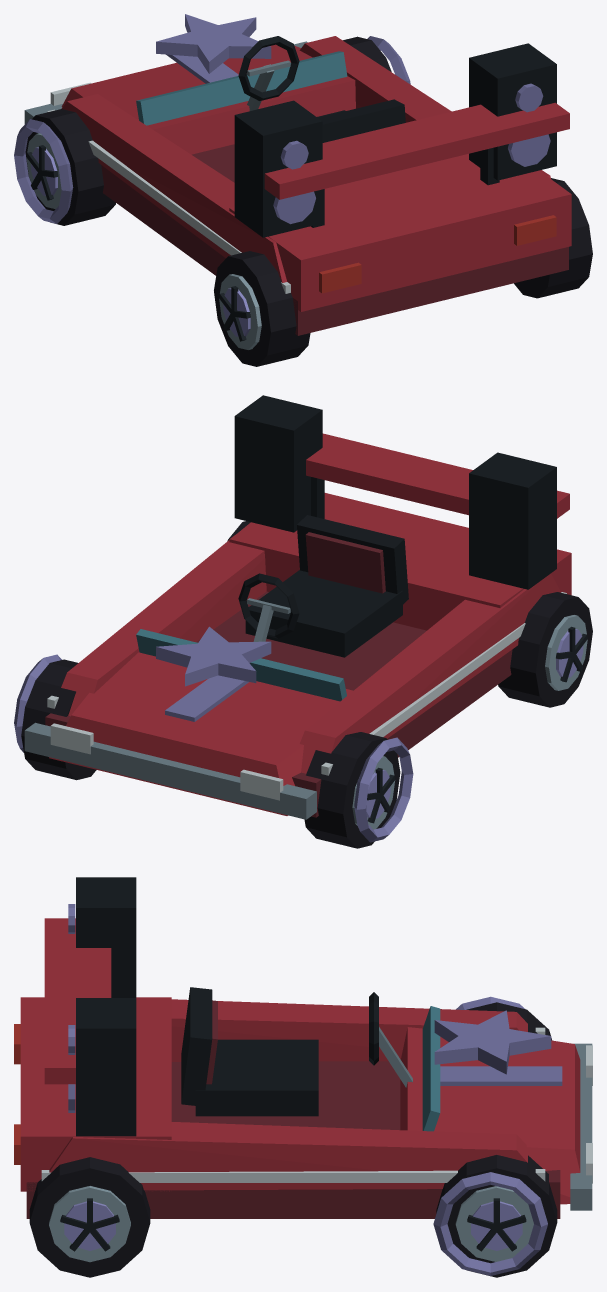
The model's file is kart.glb.
3 renders of one model, top to bottom at view 1: azimuth 30°, elevation 25°; view 2: azimuth 150°, elevation 25°; view 3: azimuth 270°, elevation 25°, orthographic. The views are drawn at different scales.
Visible parts, largest first — view 1: identity-sports-car-sports-car-road-car-body, identity-sports-car-motif-speakers, wheel-rear-left, wheel-front-left, identity-sports-car-motif-neon, identity-sports-car-driver-cockpit, identity-sports-car-motif-star, wheel-rear-right, wheel-front-right; view 2: identity-sports-car-sports-car-road-car-body, identity-sports-car-motif-speakers, identity-sports-car-driver-cockpit, wheel-rear-left, wheel-front-left, identity-sports-car-motif-neon, identity-sports-car-motif-star, wheel-front-right; view 3: identity-sports-car-sports-car-road-car-body, identity-sports-car-motif-speakers, identity-sports-car-driver-cockpit, wheel-rear-right, identity-sports-car-motif-neon, wheel-front-right, identity-sports-car-motif-star, wheel-front-left.
Boxes of the visible parts, bbox=[...] form: identity-sports-car-sports-car-road-car-body: bbox=[24, 36, 571, 335]; identity-sports-car-motif-speakers: bbox=[234, 43, 556, 237]; wheel-rear-left: bbox=[214, 251, 310, 366]; wheel-front-left: bbox=[25, 109, 115, 225]; identity-sports-car-motif-neon: bbox=[14, 36, 410, 293]; identity-sports-car-driver-cockpit: bbox=[238, 36, 405, 142]; identity-sports-car-motif-star: bbox=[156, 14, 271, 73]; wheel-rear-right: bbox=[514, 178, 592, 298]; wheel-front-right: bbox=[343, 36, 391, 71]; identity-sports-car-sports-car-road-car-body: bbox=[24, 433, 571, 819]; identity-sports-car-motif-speakers: bbox=[234, 395, 556, 589]; identity-sports-car-driver-cockpit: bbox=[238, 515, 408, 657]; wheel-rear-left: bbox=[498, 592, 592, 707]; wheel-front-left: bbox=[304, 732, 400, 848]; identity-sports-car-motif-neon: bbox=[14, 592, 566, 842]; identity-sports-car-motif-star: bbox=[156, 626, 271, 686]; wheel-front-right: bbox=[21, 659, 96, 780]; identity-sports-car-sports-car-road-car-body: bbox=[14, 918, 592, 1218]; identity-sports-car-motif-speakers: bbox=[68, 877, 136, 1136]; identity-sports-car-driver-cockpit: bbox=[181, 987, 412, 1116]; wheel-rear-right: bbox=[29, 1157, 150, 1277]; identity-sports-car-motif-neon: bbox=[41, 996, 547, 1275]; wheel-front-right: bbox=[436, 1155, 557, 1277]; identity-sports-car-motif-star: bbox=[434, 1010, 551, 1074]; wheel-front-left: bbox=[466, 1002, 552, 1040].
Bounding box in the file's own units: 2.13 × 1.33 × 2.88.
